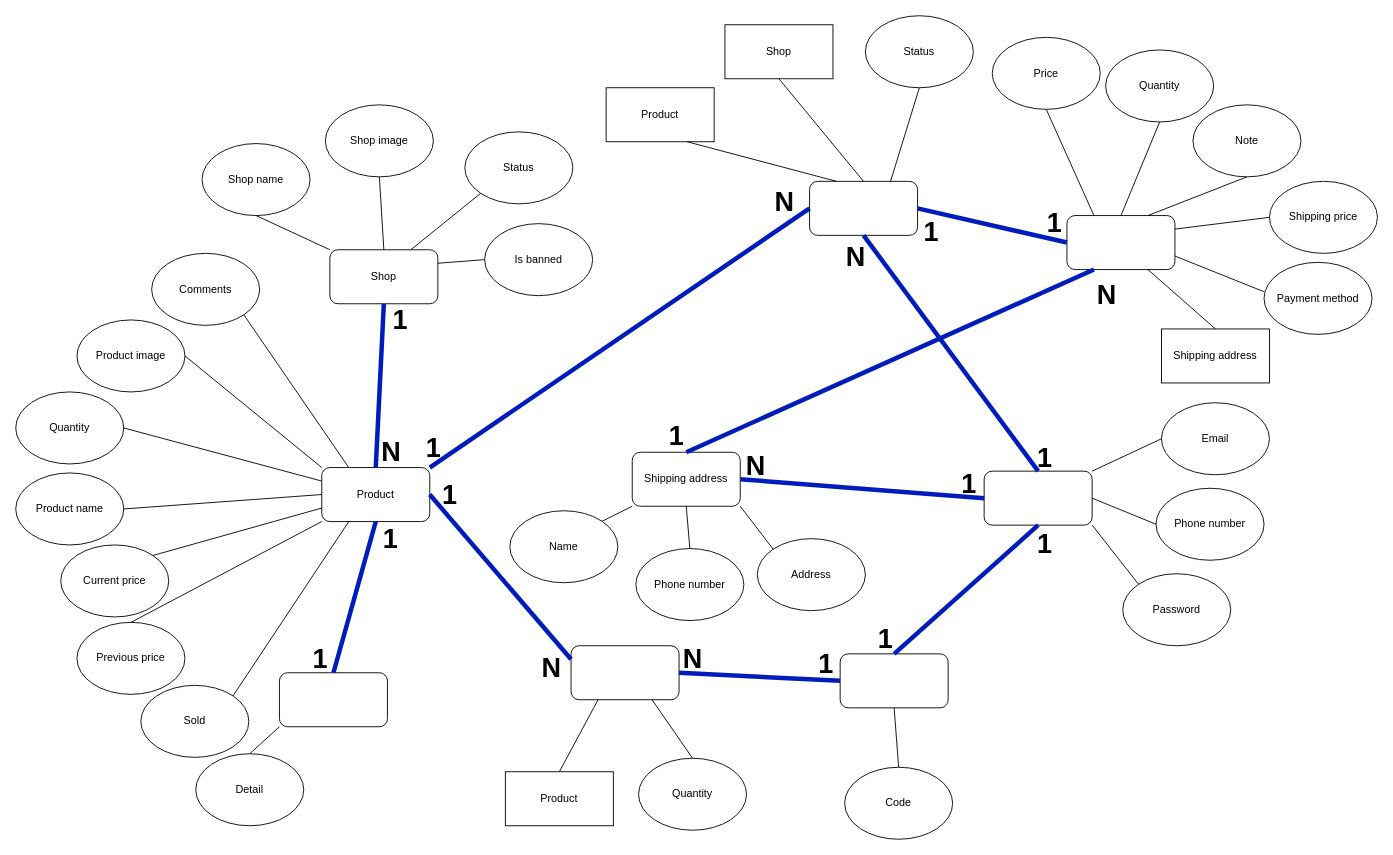
The diagram is 1393 pixels wide and 855 high, and some of its shapes have lost their labels. The centre of each missing label's shape, as x and y in pixels:
Cart address: the point at 893,680
Cart detail: the point at 624,672
Order: the point at 863,207
OrderDetail: the point at 1120,242
Product detail: the point at 333,699
User account: the point at 1037,497
